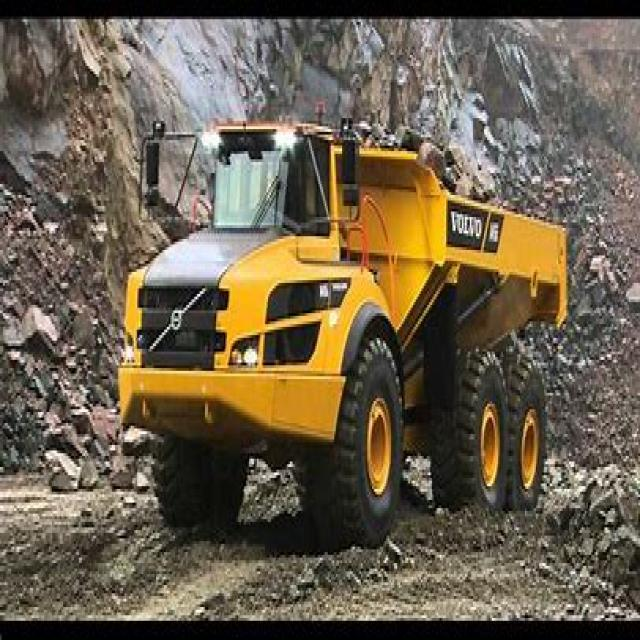dump_truck: (113, 86, 592, 538)
